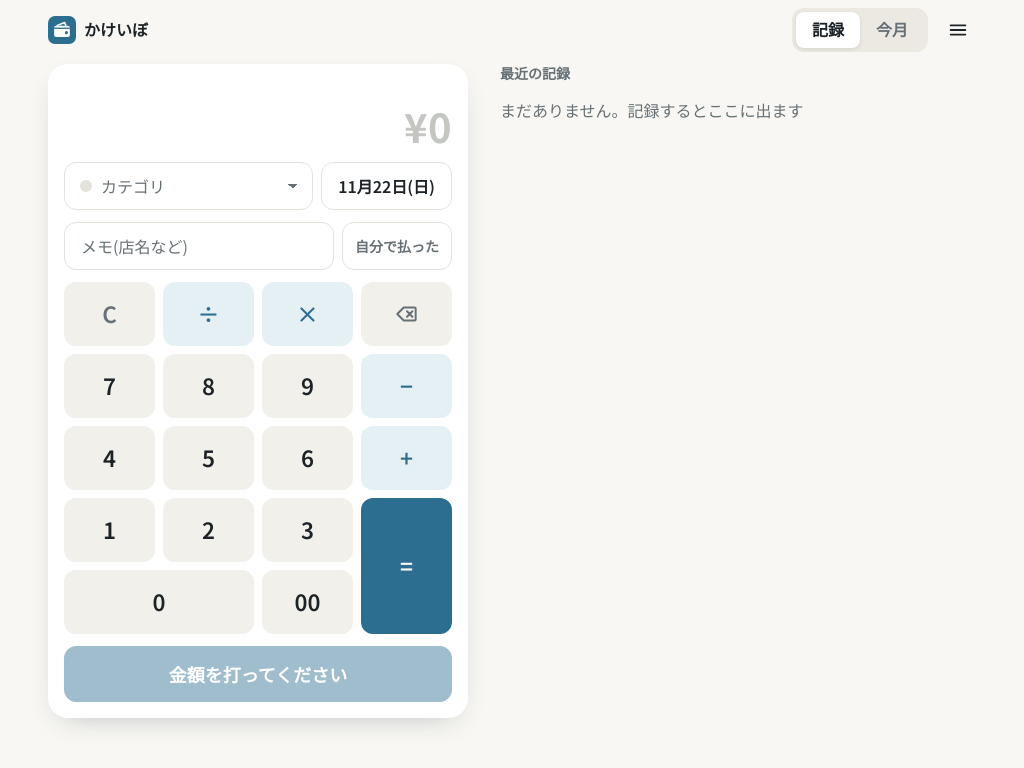
Test: 今月 › 読み終える前は金額を出さない
Click the button "今月": coordinates (892, 30) [860, 12, 924, 48]
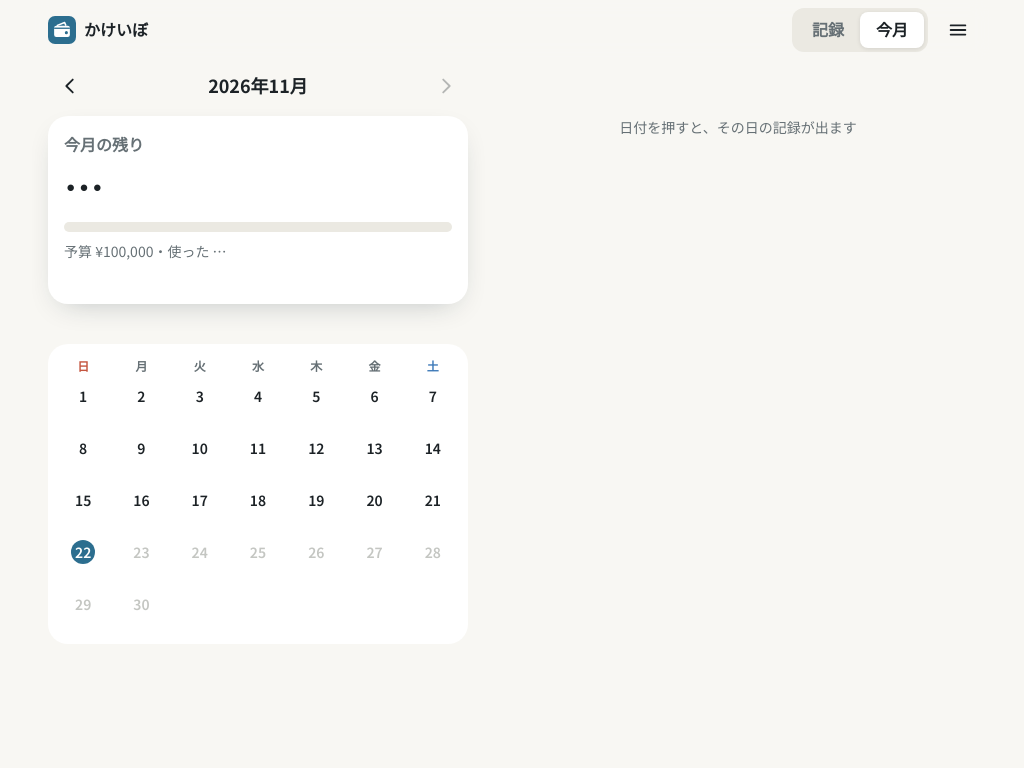
Expected: the text with class "summary-big" reads "…", [64, 157, 104, 215]
Click the button with class "today": coordinates (83, 560) [56, 536, 110, 584]
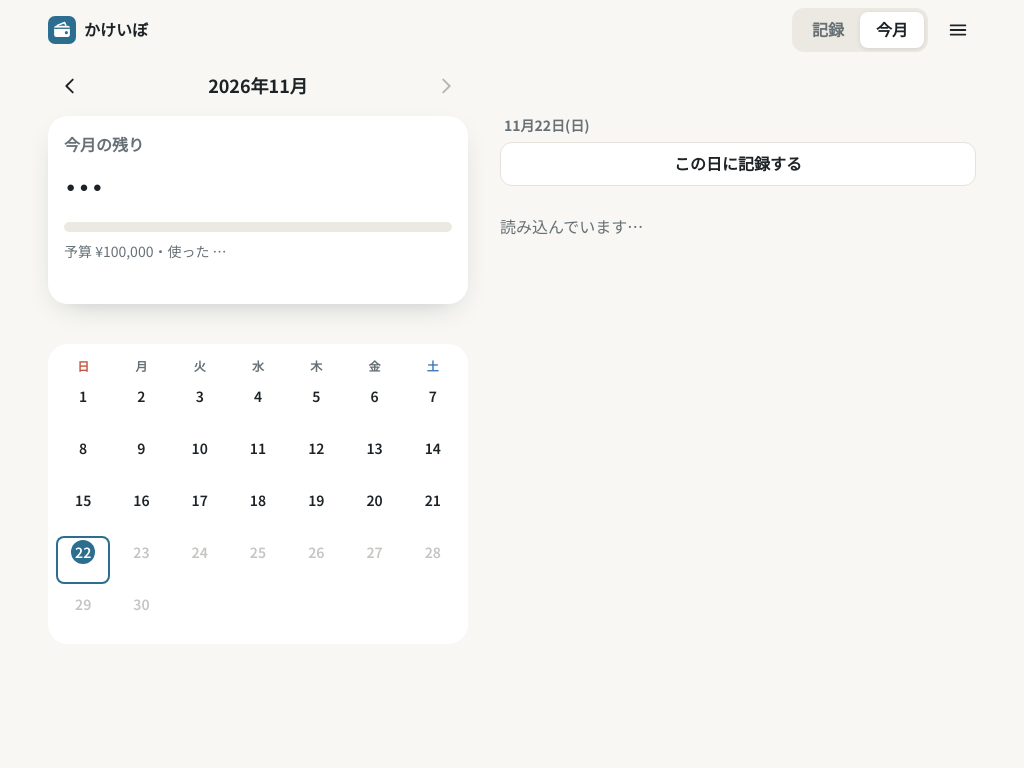
Expected: the text with class "muted" reads "読み込んでいます…", [500, 214, 643, 238]
